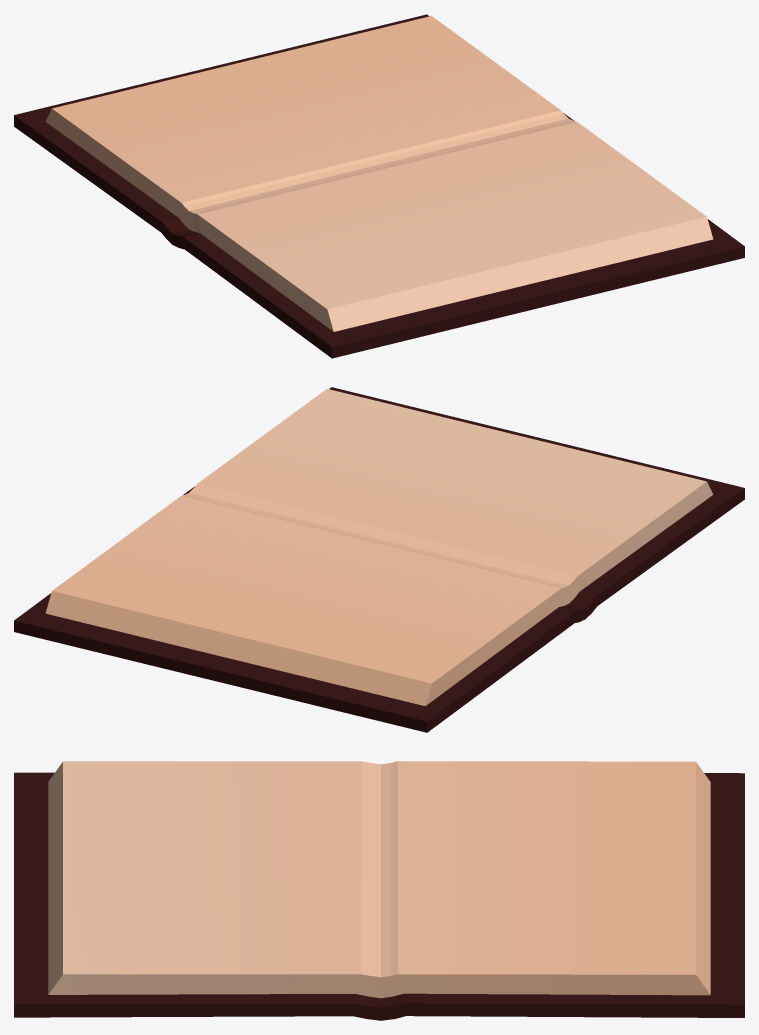
Rendered from OpenBook.fbx.
3 views of the same model, one above another, from view 1: azimuth 30°, elevation 25°; view 2: azimuth 150°, elevation 25°; view 3: azimuth 270°, elevation 25° (orthographic). The views are drawn at different scales.
Parts seen in each view (by area): view 1: Plane.001, Plane; view 2: Plane.001, Plane; view 3: Plane.001, Plane.
Boxes of the visible parts, x1=… form: Plane.001: x1=45, y1=16, x2=713, y2=331; Plane: x1=14, y1=14, x2=744, y2=358; Plane.001: x1=45, y1=389, x2=713, y2=706; Plane: x1=14, y1=387, x2=744, y2=732; Plane.001: x1=48, y1=761, x2=710, y2=998; Plane: x1=14, y1=772, x2=744, y2=1020.
Bounding box in the file's own units: 251 × 18.87 × 335.
2 materials, 1 textured.
